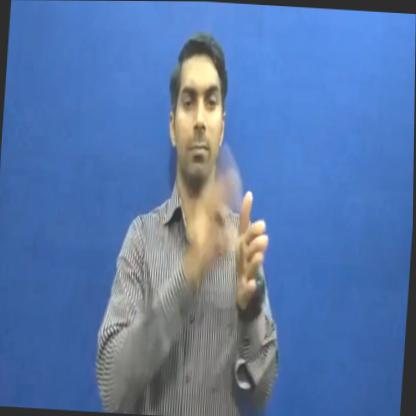Expensive: (141, 160, 272, 370)
